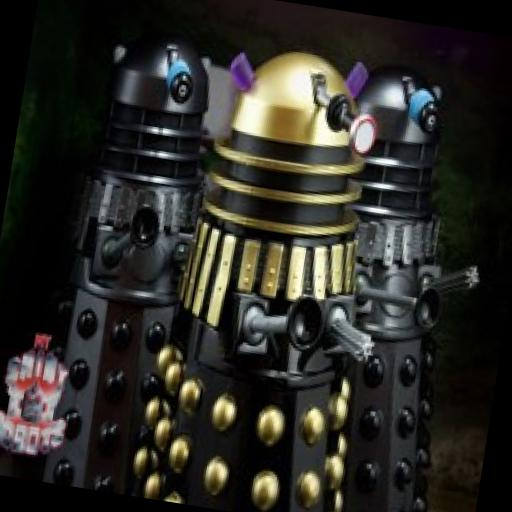dalek: (126, 34, 423, 512), (277, 60, 512, 512), (35, 26, 216, 498)
